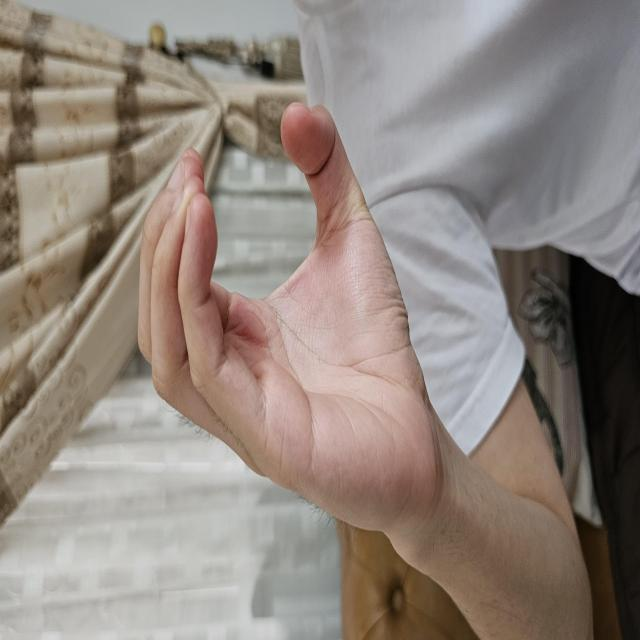C: (114, 136, 540, 433)
